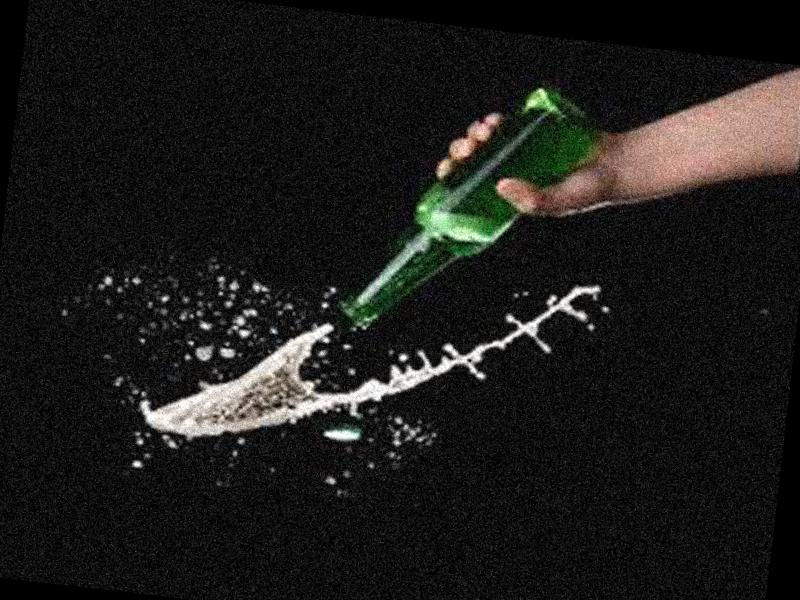Beer: (340, 62, 606, 350)
